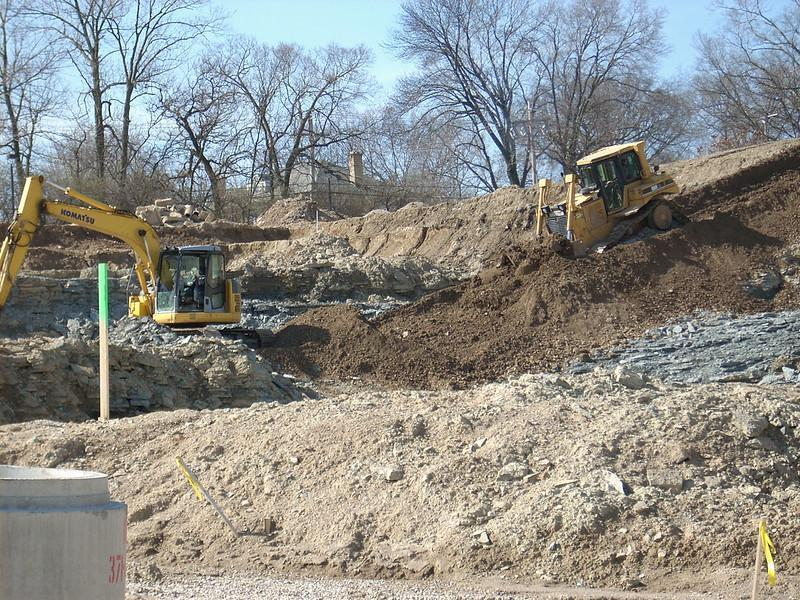EXCAVATORS: (0, 173, 265, 352)
